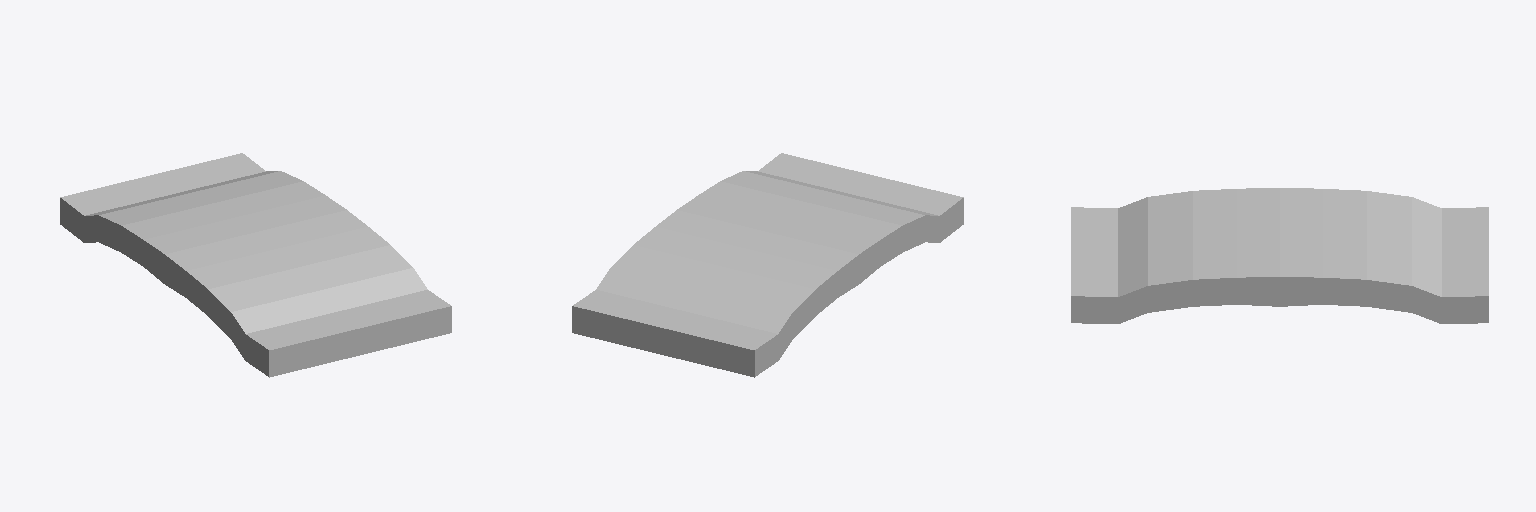
File: Obo2.obj
3 renders of one model, left to right at view 1: azimuth 30°, elevation 25°; view 2: azimuth 150°, elevation 25°; view 3: azimuth 270°, elevation 25°, orthographic.
Parts seen in each view (by area): view 1: Cube; view 2: Cube; view 3: Cube.
Boxes of the visible parts, x1=… form: Cube: x1=60, y1=153, x2=451, y2=377; Cube: x1=572, y1=153, x2=963, y2=377; Cube: x1=1071, y1=188, x2=1488, y2=323.
Bounding box in the file's own units: 2 × 0.4992 × 3.97.